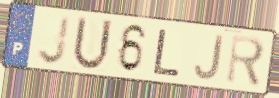6: (115, 23, 147, 75)
J: (36, 14, 73, 67), (192, 34, 226, 82)
L: (151, 27, 182, 79)
R: (225, 32, 268, 90)
U: (70, 14, 115, 73)
